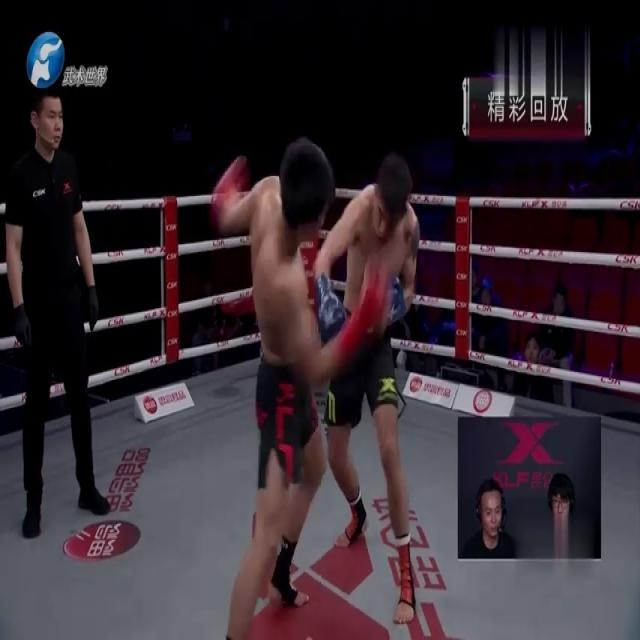fight: (210, 124, 429, 639)
non-fight: (0, 78, 110, 538)
